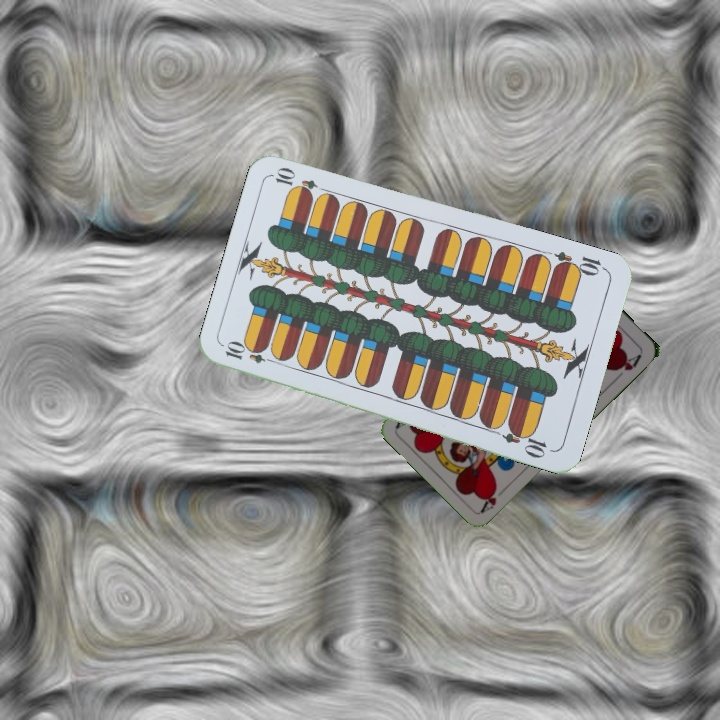E10: (550, 247, 609, 279), (221, 340, 280, 367)
HA: (477, 482, 510, 515)
